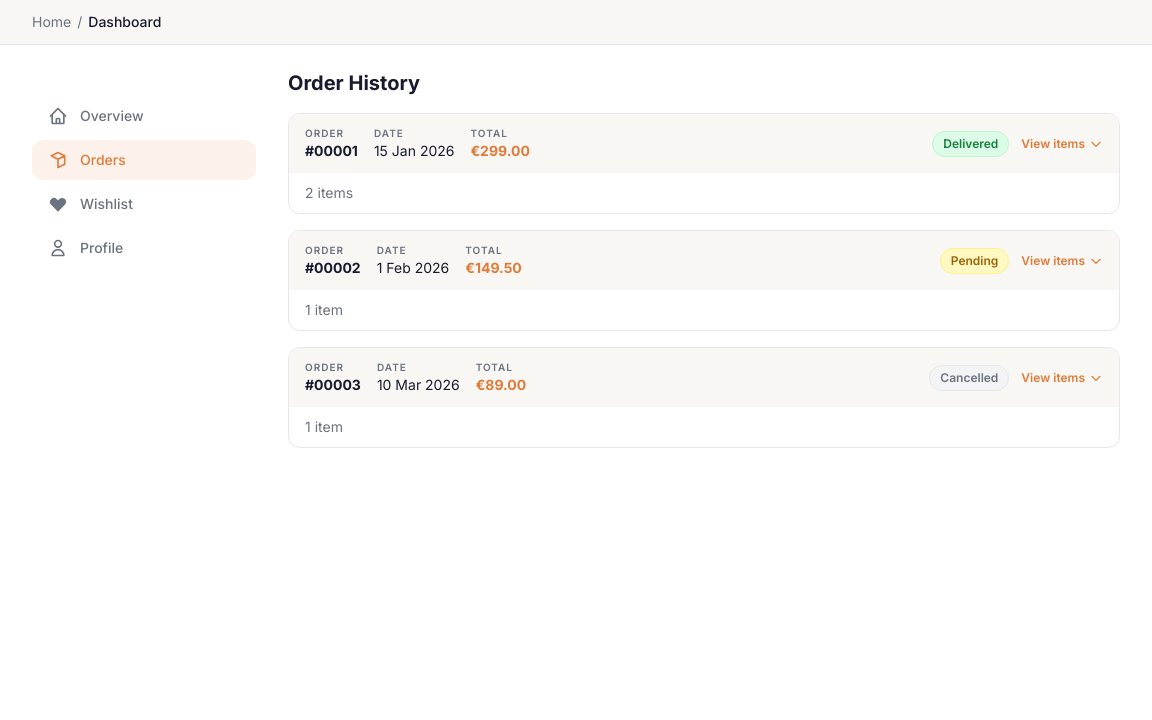
OrdersTab — expand / collapse › collapses back when "Hide items" is clicked
This screenshot has width=1152, height=720.
Expected: the text "#00001" is shown, [305, 141, 358, 161]
What coordinates should you click on to do the following:
click the button "View items" next to "delivered"
I would click on:
 (1062, 144)
Its box is [1021, 136, 1103, 152].
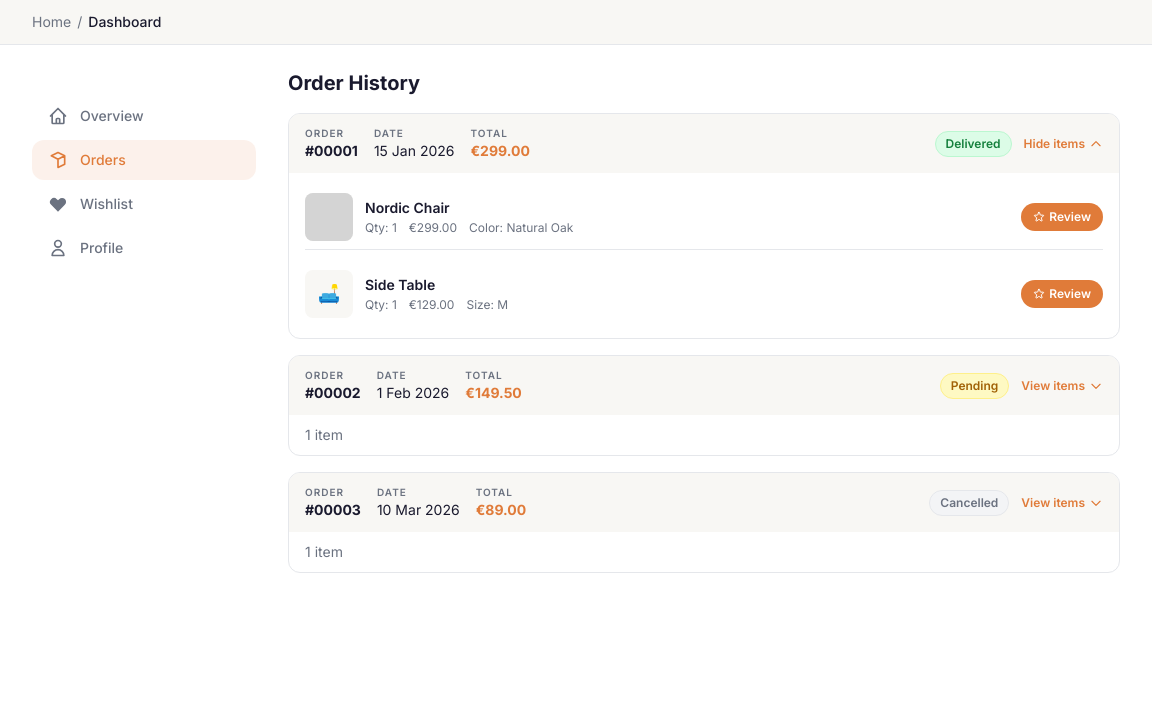
Expected: the text "Nordic Chair" is shown, [365, 199, 450, 216]
What coordinates should you click on to do the following:
click the button "Hide items"
I would click on:
 (1063, 144)
Its box is [1024, 136, 1103, 152].
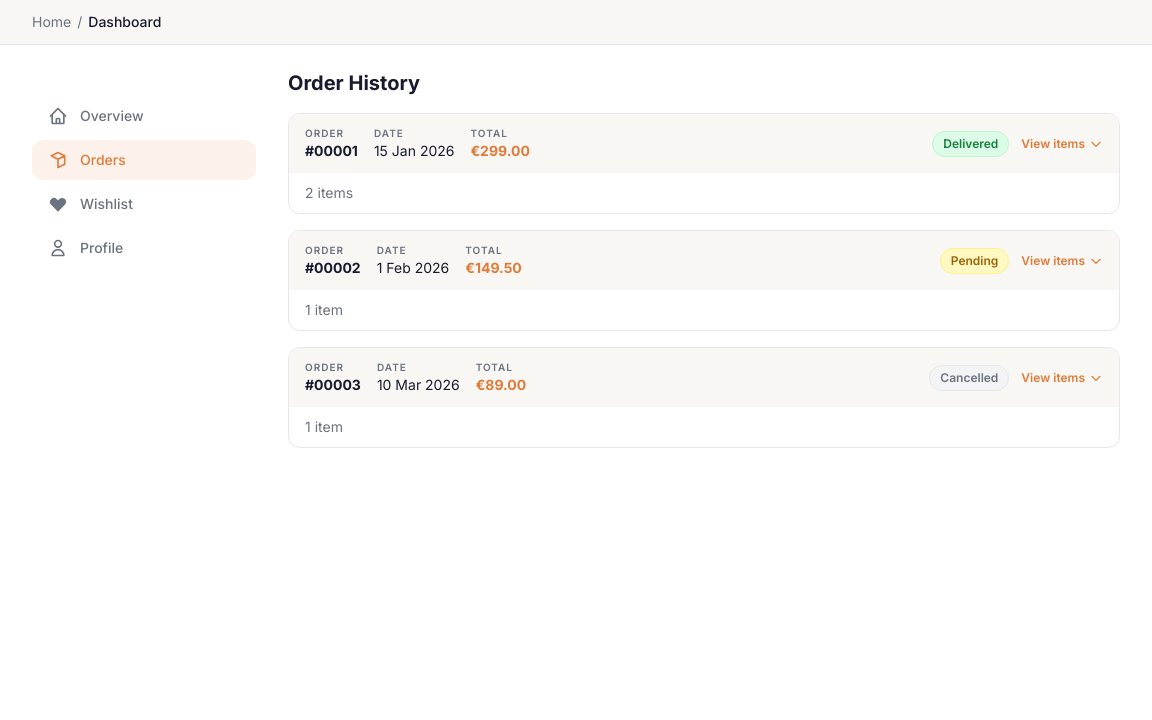
Expected: the text "Nordic Chair" is gone
